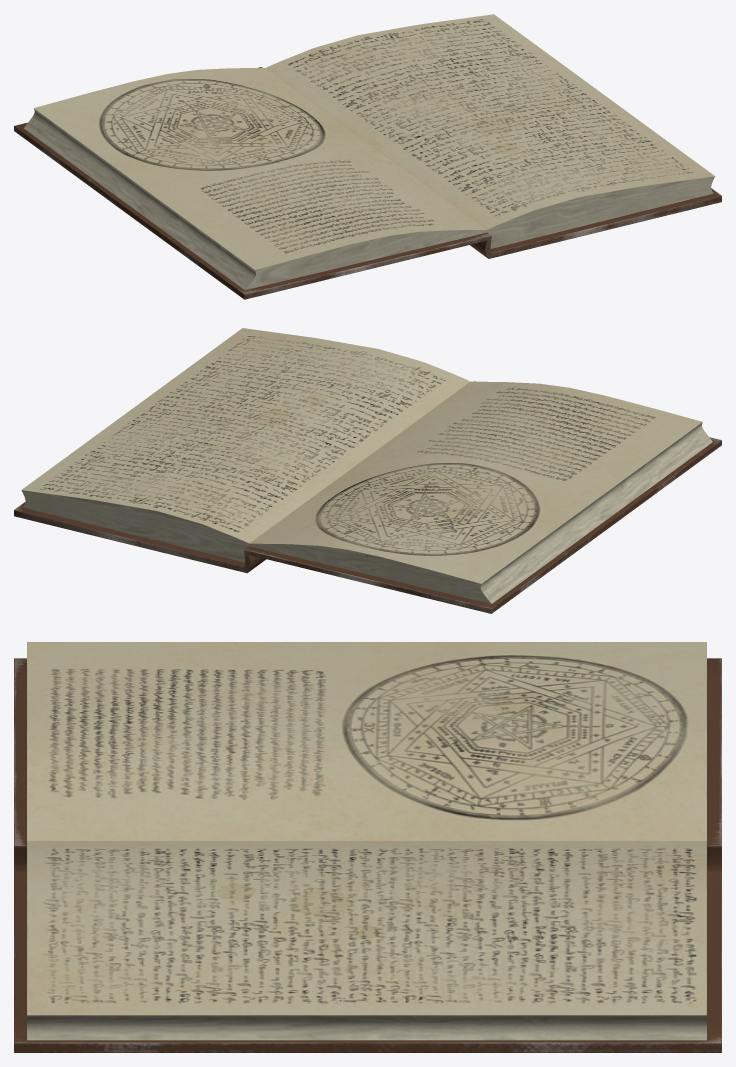
File: old_book_tarot.glb
3 views of the same model, one above another, from view 1: azimuth 30°, elevation 25°; view 2: azimuth 150°, elevation 25°; view 3: azimuth 270°, elevation 25° (orthographic). The views are drawn at different scales.
Parts seen in each view (by area): view 1: Box004, Box003, Plane001; view 2: Box004, Box003, Plane001; view 3: Box004, Box003, Plane001.
Boxes of the visible parts, box(x1,y1,x2,y2) form: Box004: box(24, 68, 487, 290); Box003: box(266, 14, 715, 248); Plane001: box(14, 67, 721, 299); Box004: box(248, 381, 712, 603); Box003: box(21, 328, 470, 562); Plane001: box(14, 381, 721, 613); Box004: box(27, 642, 706, 841); Box003: box(27, 841, 706, 1040); Plane001: box(14, 658, 721, 1052).
Size of the model in its own units: 20.29 by 1.79 by 16.97.
Materials: 2 (2 with a texture image).
